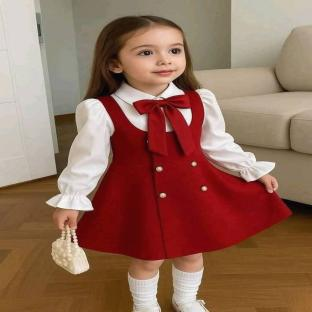Human: (46, 16, 292, 312)
